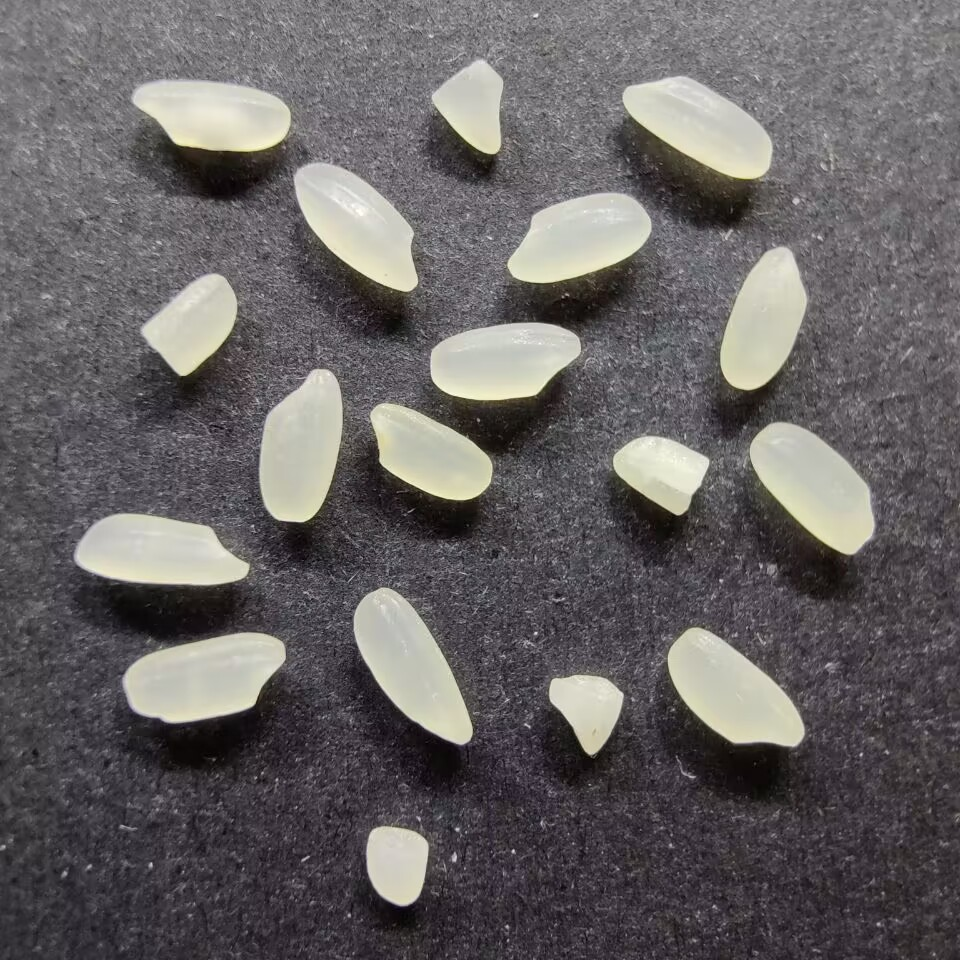broken: (137, 272, 240, 378), (610, 434, 711, 516), (429, 56, 508, 157), (545, 674, 627, 757), (363, 824, 431, 907)
rice: (350, 585, 477, 746), (664, 624, 808, 749), (747, 420, 876, 558), (292, 160, 419, 295), (619, 73, 773, 182), (121, 630, 287, 724), (256, 365, 345, 524), (504, 190, 653, 284), (72, 511, 254, 585), (717, 244, 807, 392), (368, 400, 495, 504), (427, 319, 583, 401), (129, 79, 291, 152)
